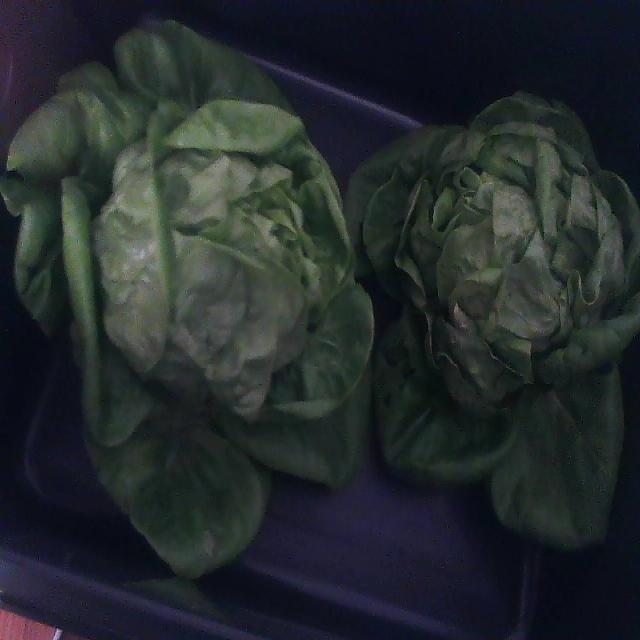lettuce: (0, 21, 373, 577), (344, 92, 639, 548)
